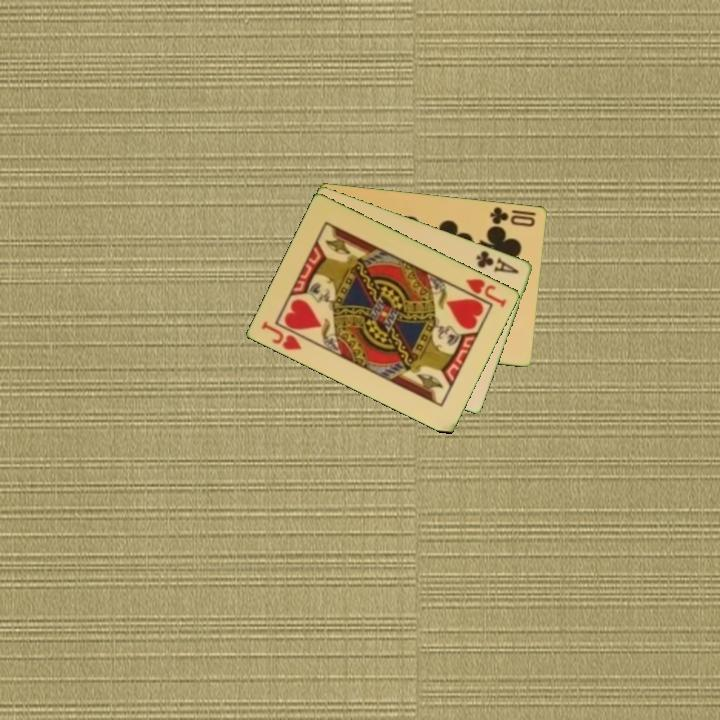10c: (487, 203, 538, 230)
Ac: (473, 247, 522, 277)
Jh: (455, 275, 510, 310), (258, 317, 305, 353)
